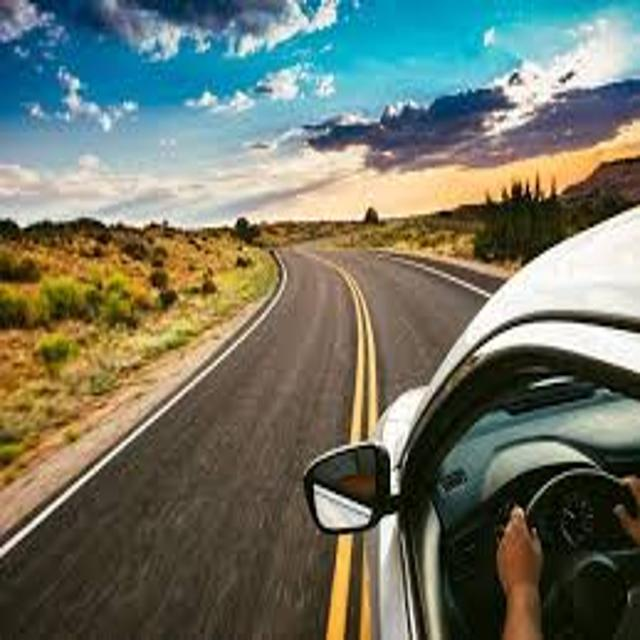car: (304, 203, 640, 640)
